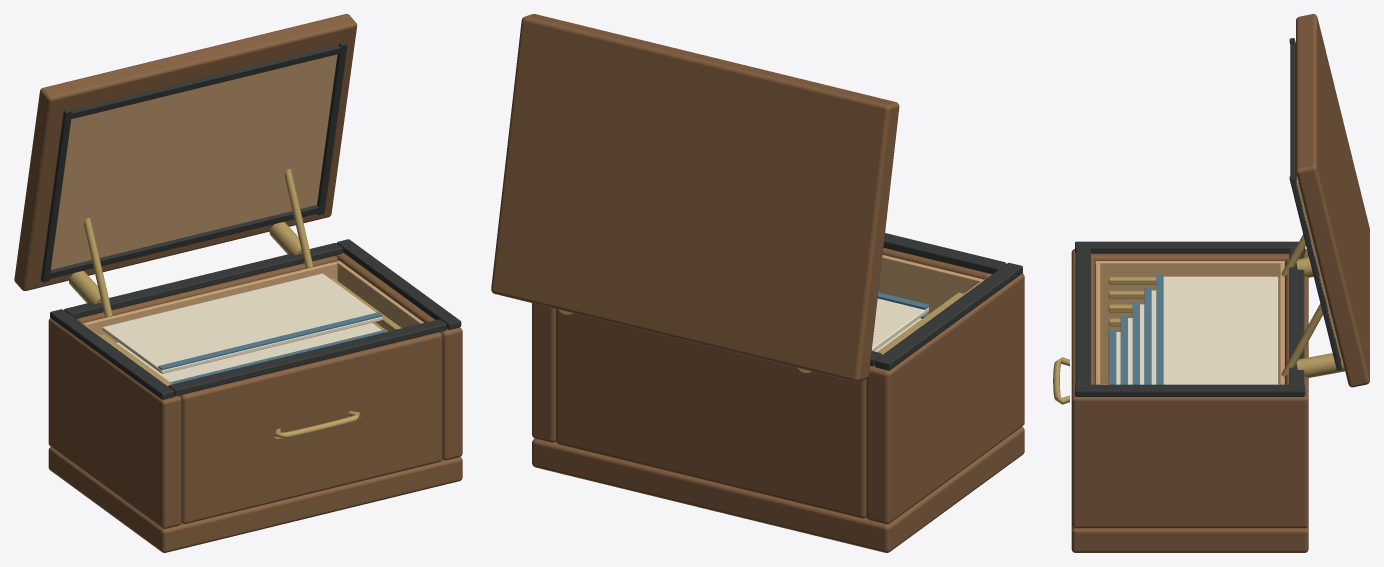
Rendered from fantasy-cartographers-map-printing-guild-damp-paper-ch-d712e1c8__32255.glb.
The picture shows the model from 3 angles, left to right: view 1: azimuth 30°, elevation 25°; view 2: azimuth 150°, elevation 25°; view 3: azimuth 270°, elevation 25°; orthographic projection. The views are drawn at different scales.
Parts seen in each view (by area): view 1: damp-paper-chest; view 2: damp-paper-chest; view 3: damp-paper-chest.
Boxes of the visible parts, x1=… form: damp-paper-chest: x1=14, y1=14, x2=462, y2=552; damp-paper-chest: x1=491, y1=14, x2=1024, y2=552; damp-paper-chest: x1=1053, y1=14, x2=1369, y2=552.
Bounding box in the file's own units: 1.08 × 1.27 × 0.9351.
